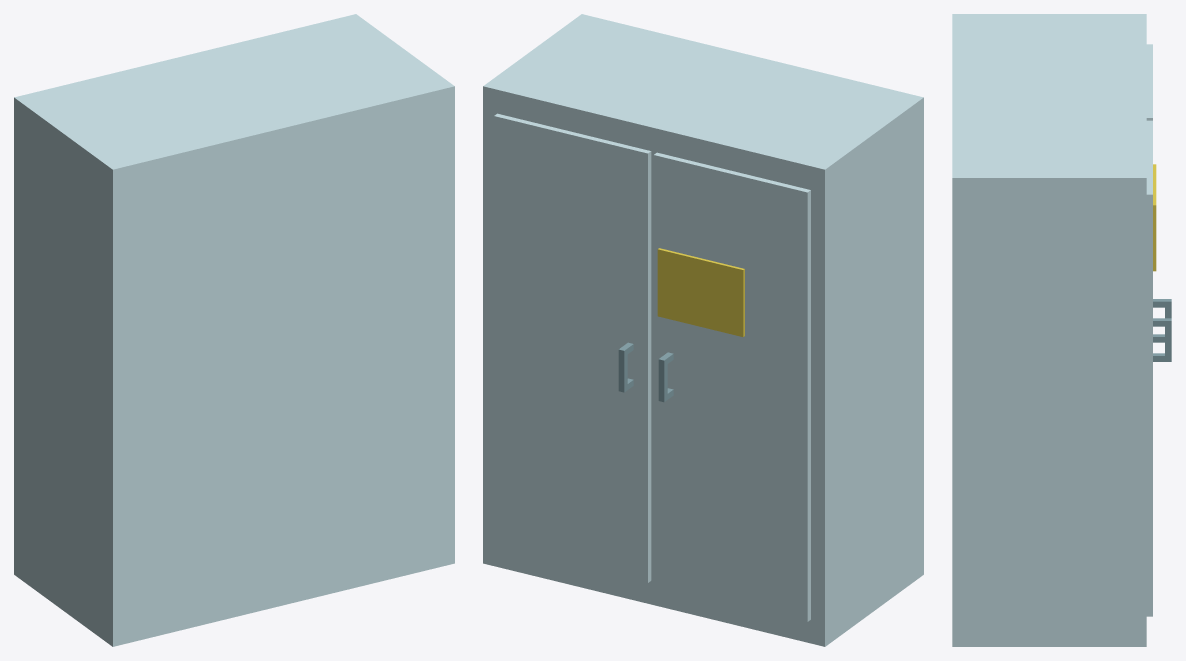
Rendered from cabinet 3.glb.
3 views of the same model, side by side, from view 1: azimuth 30°, elevation 25°; view 2: azimuth 150°, elevation 25°; view 3: azimuth 270°, elevation 25° (orthographic).
Parts seen in each view (by area): view 1: cabinet 3; view 2: cabinet 3; view 3: cabinet 3.
Boxes of the visible parts, x1,y1,x2,y2 form: cabinet 3: (14, 14, 454, 646); cabinet 3: (483, 14, 923, 646); cabinet 3: (952, 14, 1171, 646).
Bounding box in the file's own units: 1.2 × 1.6 × 0.6771.
